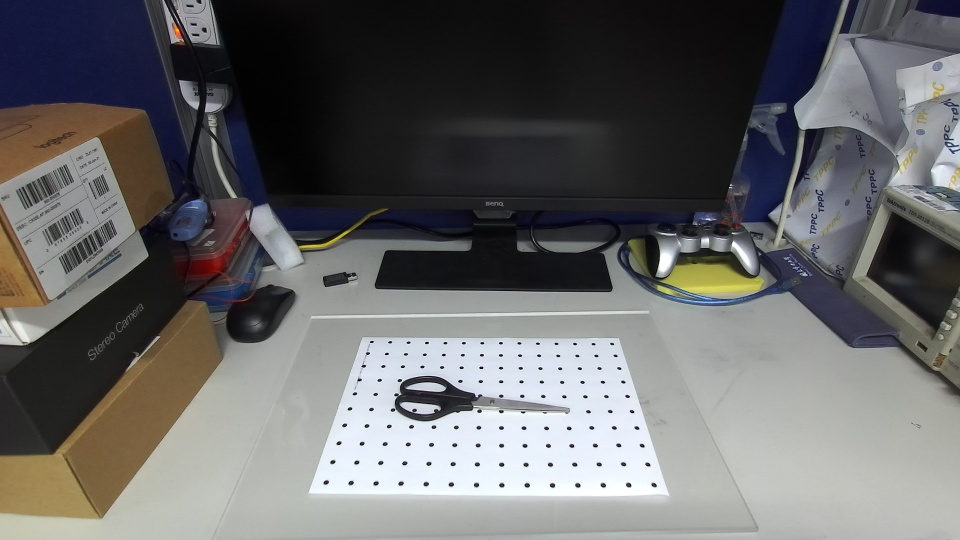blade: (472, 395, 569, 413)
round_grasp: (395, 376, 475, 421)
